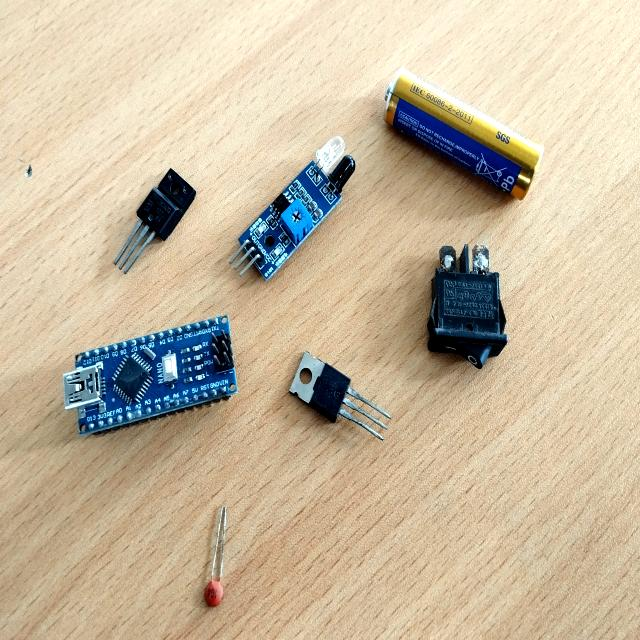capacitor: (204, 578, 223, 607)
